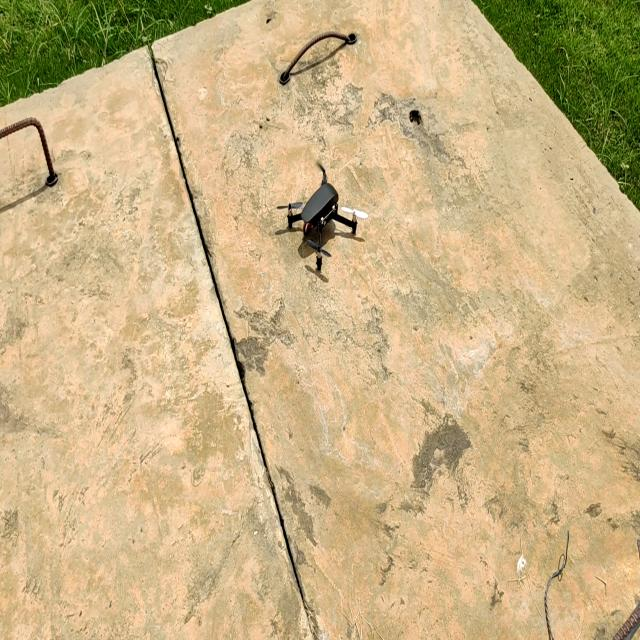drone: (272, 165, 373, 282)
